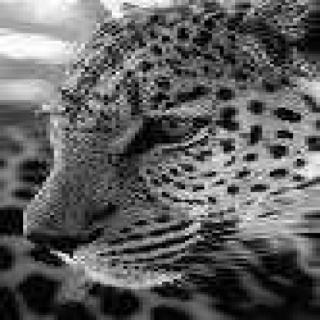Leopard: (30, 2, 320, 310)
